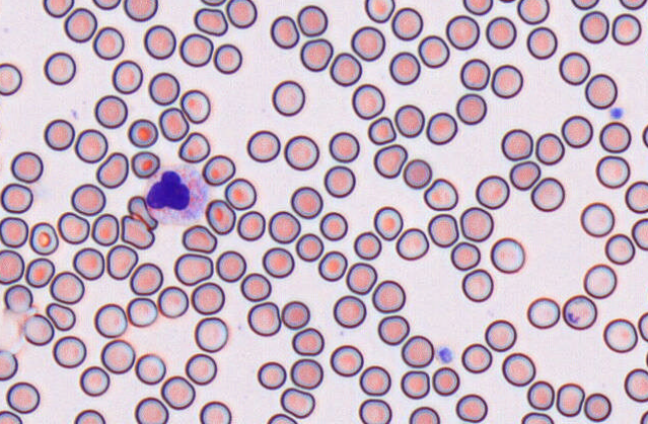MONO: (143, 160, 204, 224)
PLT: (609, 106, 625, 120)
RBC: (173, 252, 213, 285), (283, 134, 319, 170), (562, 294, 597, 330), (350, 25, 385, 61), (490, 237, 525, 273), (271, 79, 305, 116), (160, 375, 195, 410), (100, 339, 135, 374), (602, 318, 637, 353), (580, 201, 614, 237), (445, 14, 479, 50), (351, 83, 385, 119), (194, 316, 228, 352), (95, 151, 128, 188), (63, 7, 97, 42), (49, 270, 84, 304), (373, 143, 407, 178), (120, 214, 154, 249), (179, 32, 213, 67), (74, 128, 108, 163), (459, 206, 493, 241), (475, 174, 509, 209), (530, 176, 564, 211), (583, 263, 617, 298), (247, 301, 281, 336), (584, 73, 617, 109), (93, 303, 127, 337), (371, 279, 405, 313), (501, 352, 535, 386), (332, 294, 366, 328), (329, 51, 362, 86), (595, 155, 630, 188), (143, 24, 176, 59), (423, 177, 458, 210), (106, 244, 138, 280), (395, 227, 429, 260), (129, 262, 163, 295), (43, 51, 76, 85), (52, 335, 86, 368), (299, 38, 333, 71), (94, 94, 127, 128), (190, 281, 224, 314), (526, 296, 560, 329), (246, 129, 280, 162), (111, 59, 143, 94), (70, 183, 105, 215), (279, 387, 315, 418), (401, 334, 434, 367), (329, 344, 363, 376), (558, 51, 590, 85), (417, 34, 449, 68), (92, 26, 124, 60), (461, 268, 493, 302), (6, 381, 40, 413), (427, 213, 459, 247), (491, 64, 523, 98), (158, 106, 189, 141), (345, 261, 377, 294), (224, 177, 256, 210), (268, 210, 300, 243), (391, 7, 423, 40), (177, 131, 210, 163), (57, 211, 89, 244), (72, 247, 104, 280), (184, 353, 217, 385), (10, 151, 43, 183), (290, 186, 323, 218), (323, 165, 355, 198), (561, 115, 593, 148), (389, 51, 420, 85), (201, 154, 235, 185), (148, 71, 179, 105), (205, 199, 235, 234), (181, 224, 217, 253), (501, 128, 533, 160), (484, 319, 516, 351), (262, 246, 294, 278), (599, 121, 631, 153), (526, 26, 557, 59), (485, 16, 516, 49), (157, 285, 188, 318), (0, 182, 33, 213), (426, 111, 457, 144), (290, 358, 323, 389), (373, 206, 403, 240), (180, 89, 210, 123), (193, 7, 228, 36), (23, 313, 54, 345), (134, 353, 166, 384), (377, 314, 409, 345), (459, 58, 490, 90), (296, 4, 327, 36), (43, 118, 74, 150), (215, 250, 246, 282), (604, 233, 635, 265), (579, 10, 609, 43), (394, 104, 424, 137), (29, 221, 58, 255), (556, 382, 584, 417), (79, 365, 110, 396), (126, 296, 157, 327), (328, 131, 359, 162), (455, 93, 486, 124), (611, 13, 641, 45), (359, 365, 391, 395), (270, 15, 299, 48), (535, 132, 564, 165), (461, 343, 492, 373), (509, 160, 540, 190), (402, 158, 432, 189), (317, 250, 347, 281), (455, 393, 487, 422), (91, 213, 119, 246), (291, 327, 324, 355), (134, 396, 168, 423), (25, 257, 55, 287), (45, 302, 76, 331), (240, 272, 271, 301), (127, 118, 158, 147), (213, 43, 242, 74), (236, 210, 265, 241), (225, 0, 257, 28), (0, 216, 28, 248), (3, 284, 33, 313), (400, 370, 430, 399), (450, 241, 480, 270), (281, 300, 310, 329), (0, 249, 24, 284), (583, 392, 611, 422), (526, 380, 554, 410), (319, 211, 347, 241), (130, 150, 160, 178), (353, 230, 381, 260), (358, 398, 391, 423), (367, 116, 396, 144), (257, 361, 286, 389), (295, 232, 323, 261), (432, 366, 459, 395), (624, 368, 647, 402), (517, 0, 549, 24), (199, 400, 231, 423), (123, 0, 158, 21), (0, 62, 22, 95), (625, 180, 647, 213), (364, 0, 395, 23), (0, 349, 18, 380), (42, 0, 74, 17), (631, 217, 647, 250), (408, 406, 439, 423), (462, 0, 493, 15), (73, 409, 105, 423), (520, 411, 553, 423), (266, 412, 297, 423), (637, 311, 647, 341), (92, 0, 121, 10), (0, 410, 22, 423), (571, 0, 599, 10), (619, 0, 646, 10), (641, 123, 648, 148), (200, 0, 225, 6), (639, 410, 647, 423), (645, 349, 648, 368), (498, 0, 516, 3)
Schistocyte: (127, 196, 161, 233)
